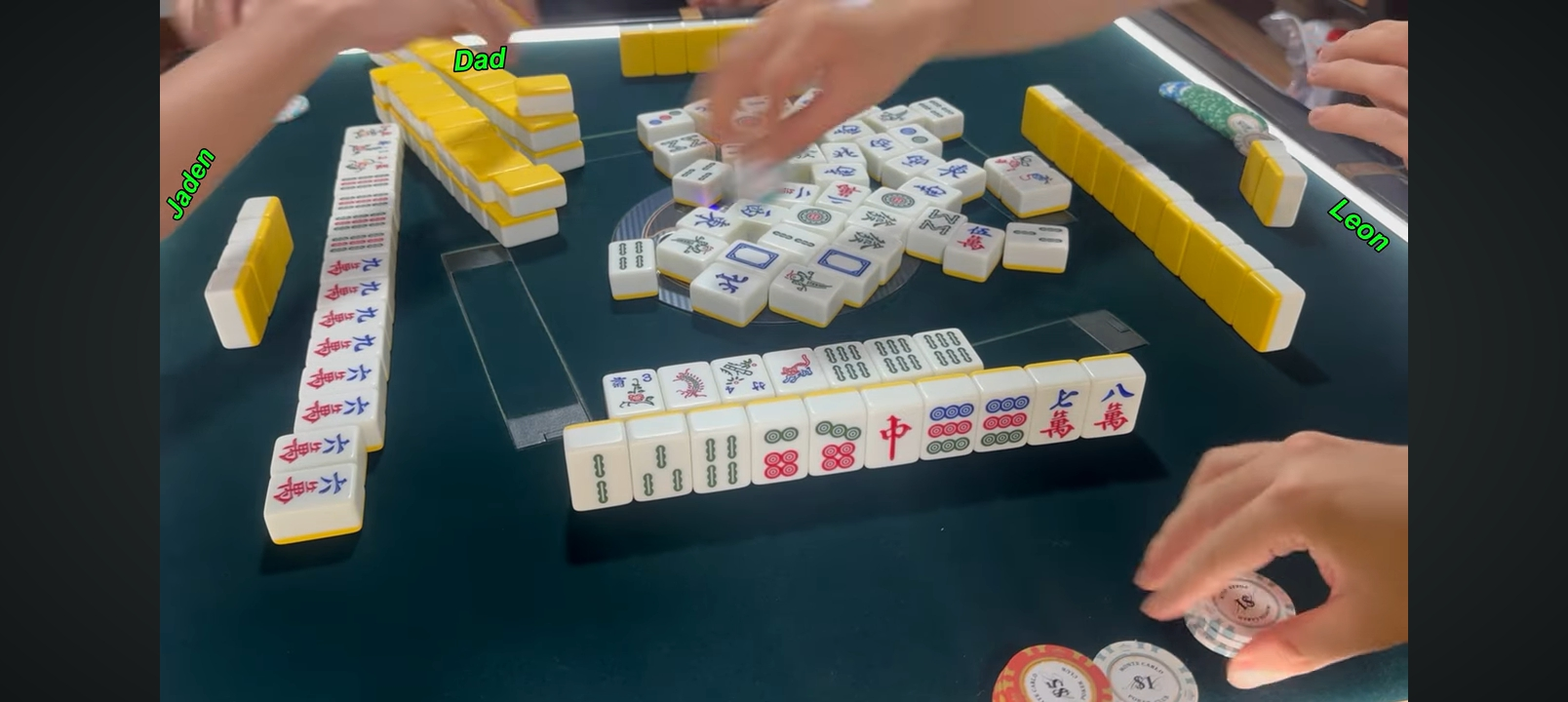TILE: (565, 447, 631, 511), (690, 426, 754, 491), (809, 409, 866, 475), (634, 435, 691, 500), (754, 418, 810, 483), (1033, 383, 1091, 443), (923, 398, 981, 458), (867, 407, 923, 469), (1086, 377, 1143, 436), (978, 390, 1031, 449), (917, 329, 987, 371), (814, 343, 875, 388), (604, 367, 662, 413), (660, 362, 720, 405), (713, 357, 772, 399), (766, 353, 823, 396), (870, 336, 921, 376)
